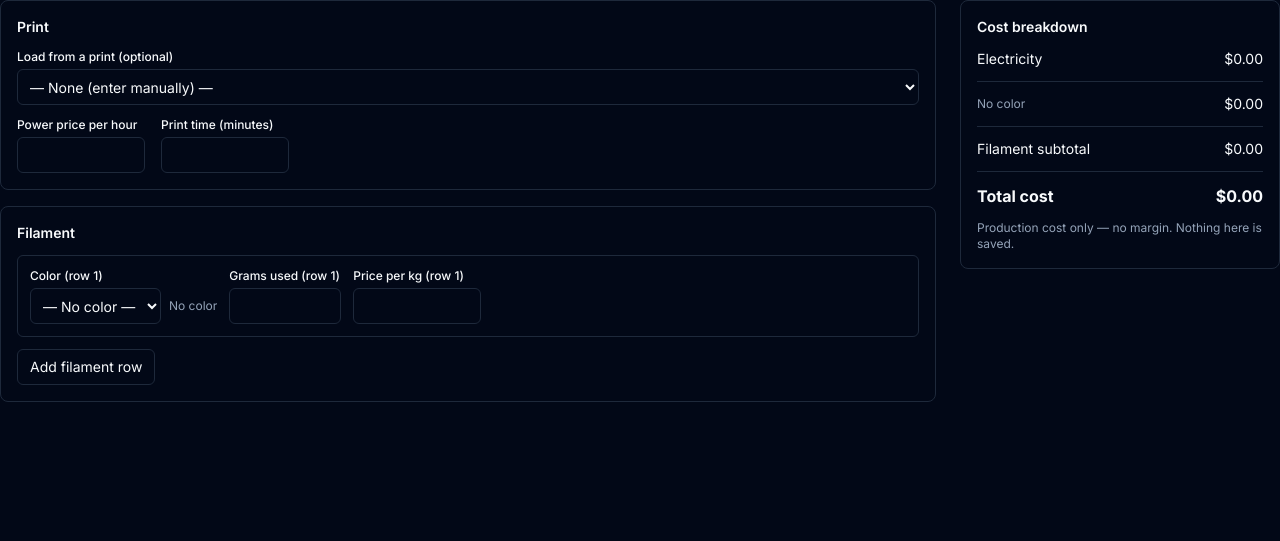
Test: prefill from a print (R5) › choosing None clears the hint WITHOUT wiping the user's typed values
Select "Two Color Print" in the dropdown labelled "Load from a print (optional)": (468, 87) [17,69,919,105]
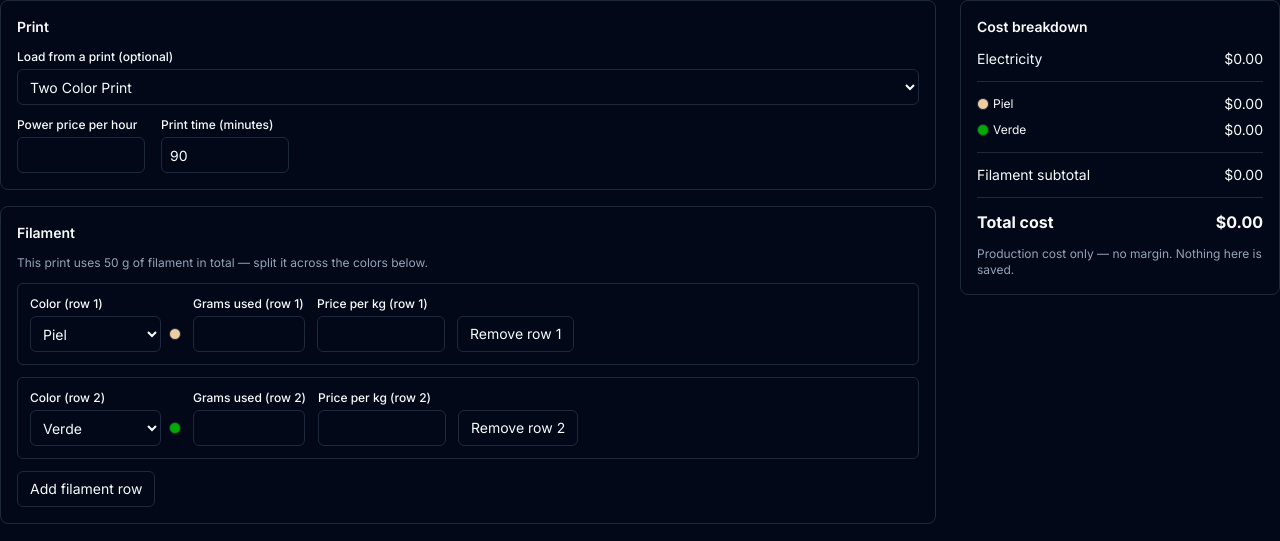
In the number field labelled "Grams used (row 1)": (249, 334) [193,316,305,352], type "30"
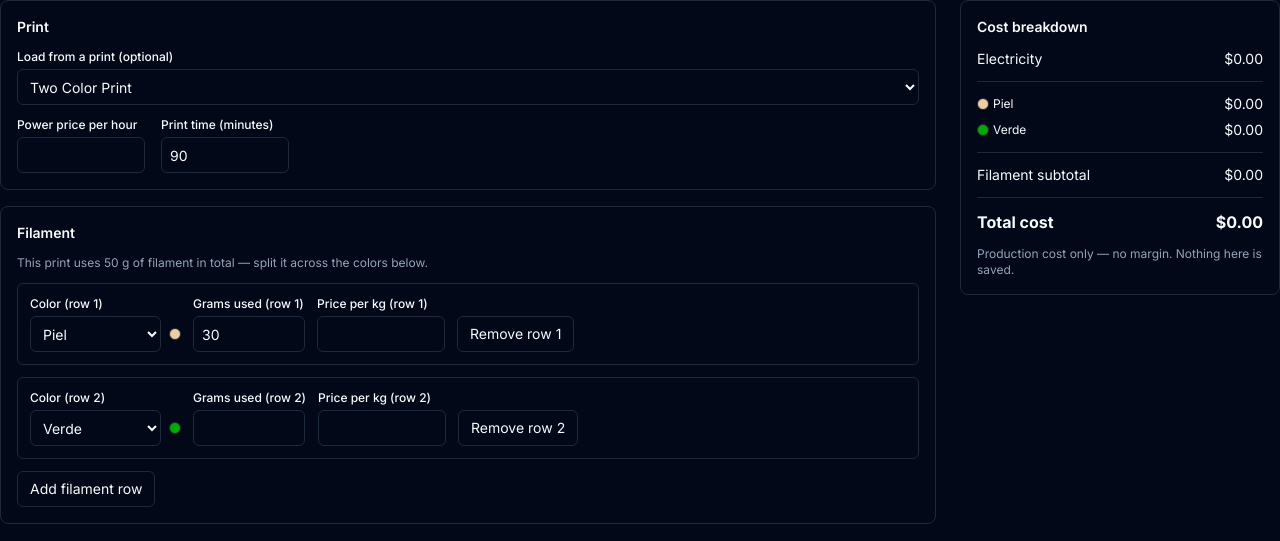
Select "— None (enter manually) —" in the dropdown labelled "Load from a print (optional)": (468, 87) [17,69,919,105]
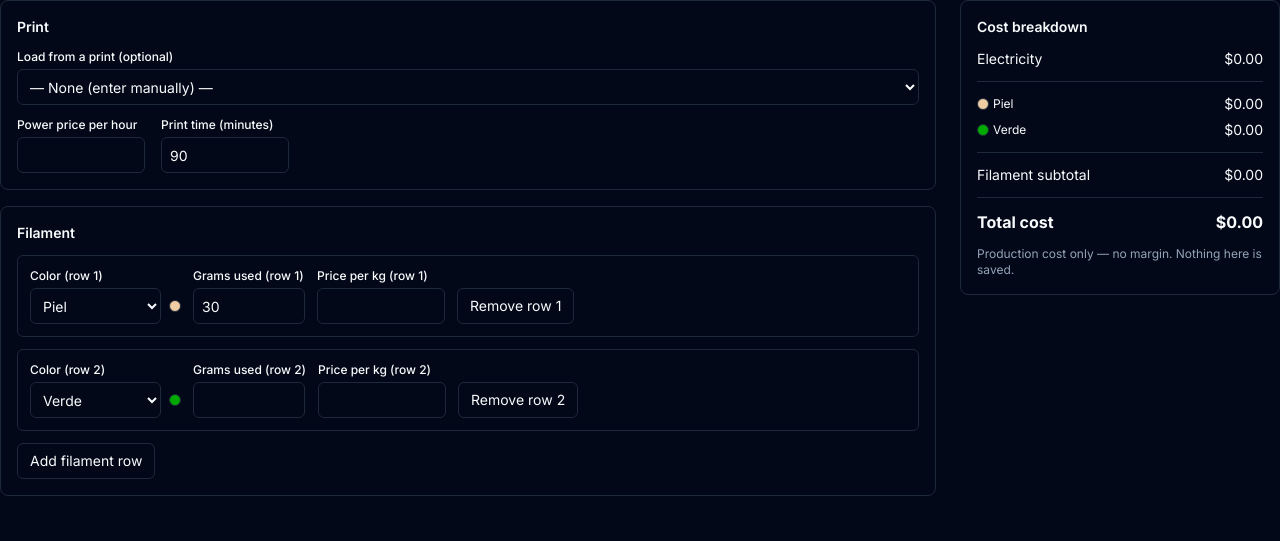
Check: the number field labelled "Print time (minutes)" holds "90", box [161,137,289,173]
Check: the text "50 g of filament in total" is gone
